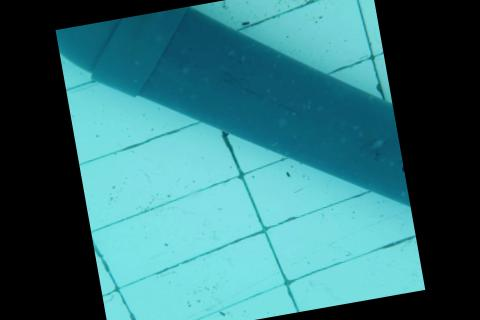kebocoran: (398, 160, 406, 184)
